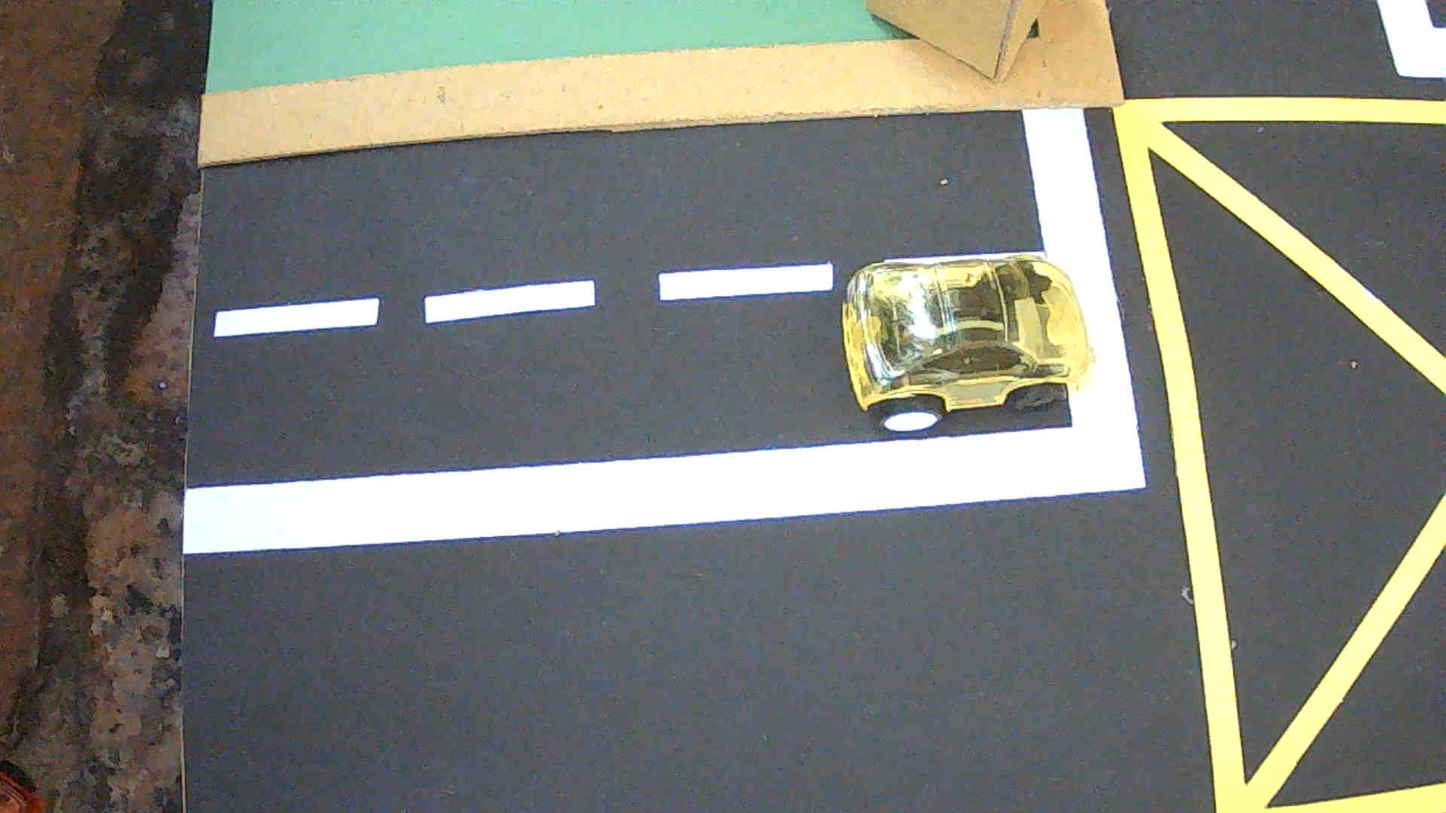Mobil kuning: (841, 255, 1091, 432)
